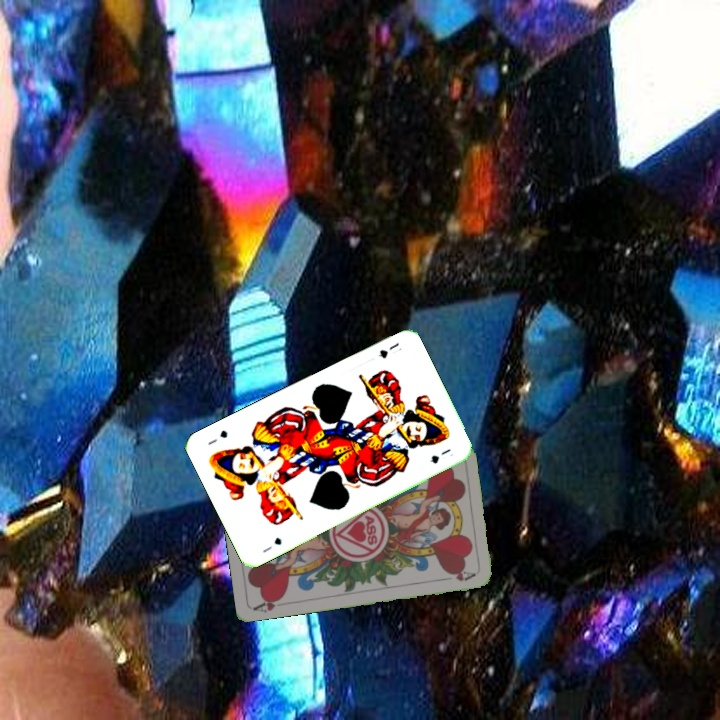GU: (374, 338, 405, 361), (259, 533, 284, 555)
HA: (250, 592, 291, 615)
